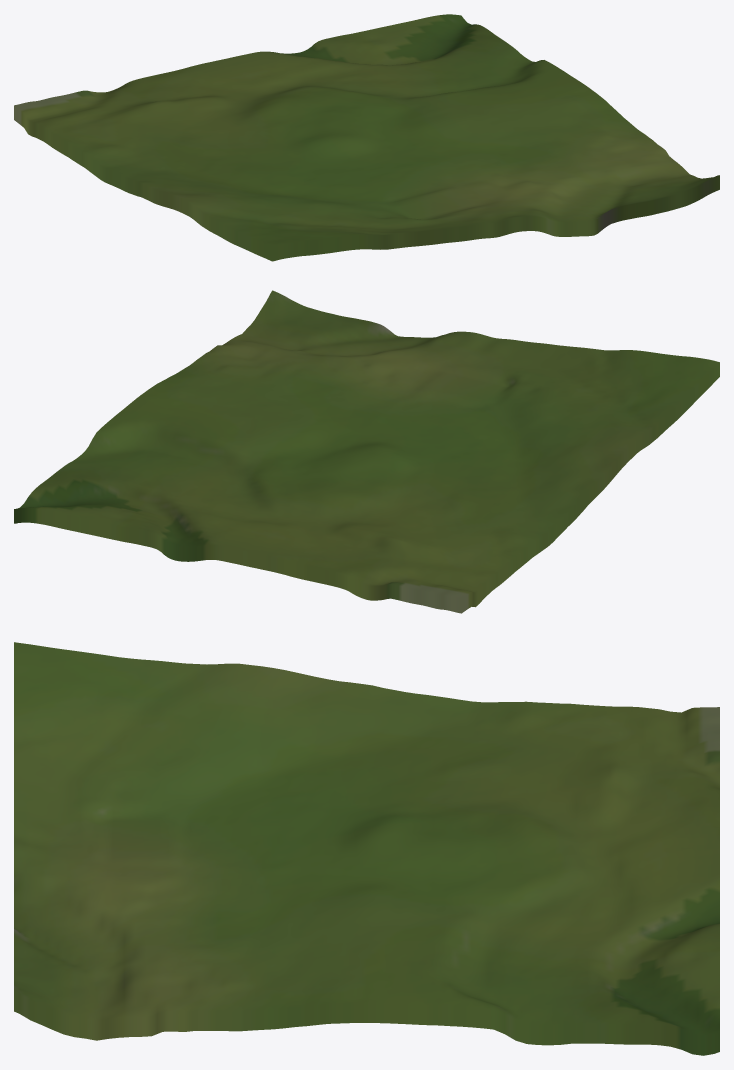
File: terrain_10_-11.glb
3 views of the same model, one above another, from view 1: azimuth 30°, elevation 25°; view 2: azimuth 150°, elevation 25°; view 3: azimuth 270°, elevation 25° (orthographic). The views are drawn at different scales.
Parts seen in each view (by area): view 1: terrain_10_-11; view 2: terrain_10_-11; view 3: terrain_10_-11.
Part boxes in pixels (x1,y1,x2,y2): terrain_10_-11: (14,14,719,261); terrain_10_-11: (14,290,719,613); terrain_10_-11: (14,642,719,1055).
Bounding box in the file's own units: 256 × 46.21 × 256.
